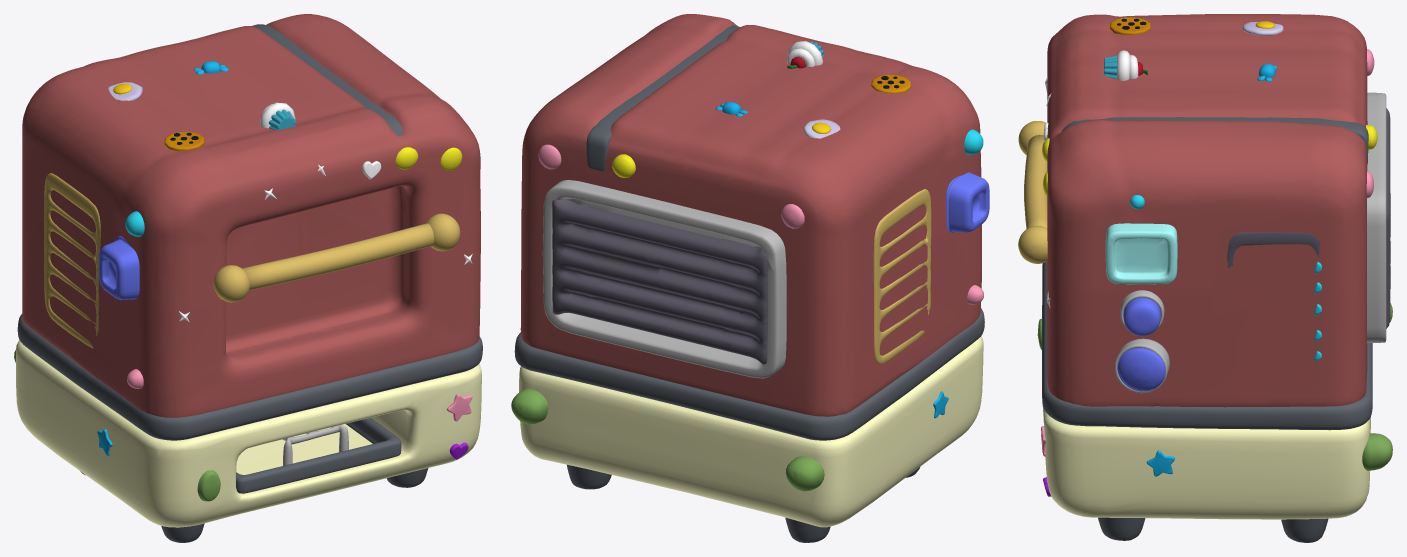
File: ToasterOvenToy3dModel1.fbx
3 views of the same model, side by side, from view 1: azimuth 30°, elevation 25°; view 2: azimuth 150°, elevation 25°; view 3: azimuth 270°, elevation 25° (orthographic). The views are drawn at different scales.
Parts seen in each view (by area): view 1: M_ToasterOvenToy3dModel1, S_ToasterOvenToy3dModel1, D_ToasterOvenToy3dModel1_1, D_ToasterOvenToy3dModel1_3; view 2: M_ToasterOvenToy3dModel1, S_ToasterOvenToy3dModel1, D_ToasterOvenToy3dModel1_1, D_ToasterOvenToy3dModel1_3; view 3: M_ToasterOvenToy3dModel1, S_ToasterOvenToy3dModel1, D_ToasterOvenToy3dModel1_1, D_ToasterOvenToy3dModel1_3, D_ToasterOvenToy3dModel1_2, D_ToasterOvenToy3dModel1_7.
Part boxes in pixels (x1,y1,x2,y2): M_ToasterOvenToy3dModel1: [14, 14, 481, 542]; S_ToasterOvenToy3dModel1: [17, 24, 482, 493]; D_ToasterOvenToy3dModel1_1: [260, 102, 296, 130]; D_ToasterOvenToy3dModel1_3: [164, 131, 204, 151]; M_ToasterOvenToy3dModel1: [511, 14, 989, 542]; S_ToasterOvenToy3dModel1: [514, 25, 984, 440]; D_ToasterOvenToy3dModel1_1: [787, 41, 823, 68]; D_ToasterOvenToy3dModel1_3: [871, 74, 911, 93]; M_ToasterOvenToy3dModel1: [1018, 14, 1392, 542]; S_ToasterOvenToy3dModel1: [1024, 92, 1390, 430]; D_ToasterOvenToy3dModel1_1: [1104, 50, 1147, 80]; D_ToasterOvenToy3dModel1_3: [1110, 17, 1150, 34]; D_ToasterOvenToy3dModel1_2: [1242, 21, 1283, 35]; D_ToasterOvenToy3dModel1_7: [1146, 450, 1174, 476].
Bounding box in the file's own units: 780 × 820 × 662.
